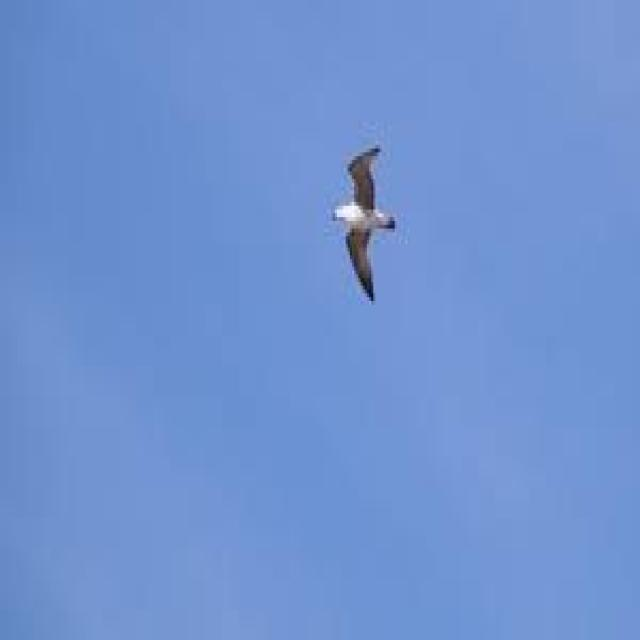bird: (333, 139, 401, 311)
